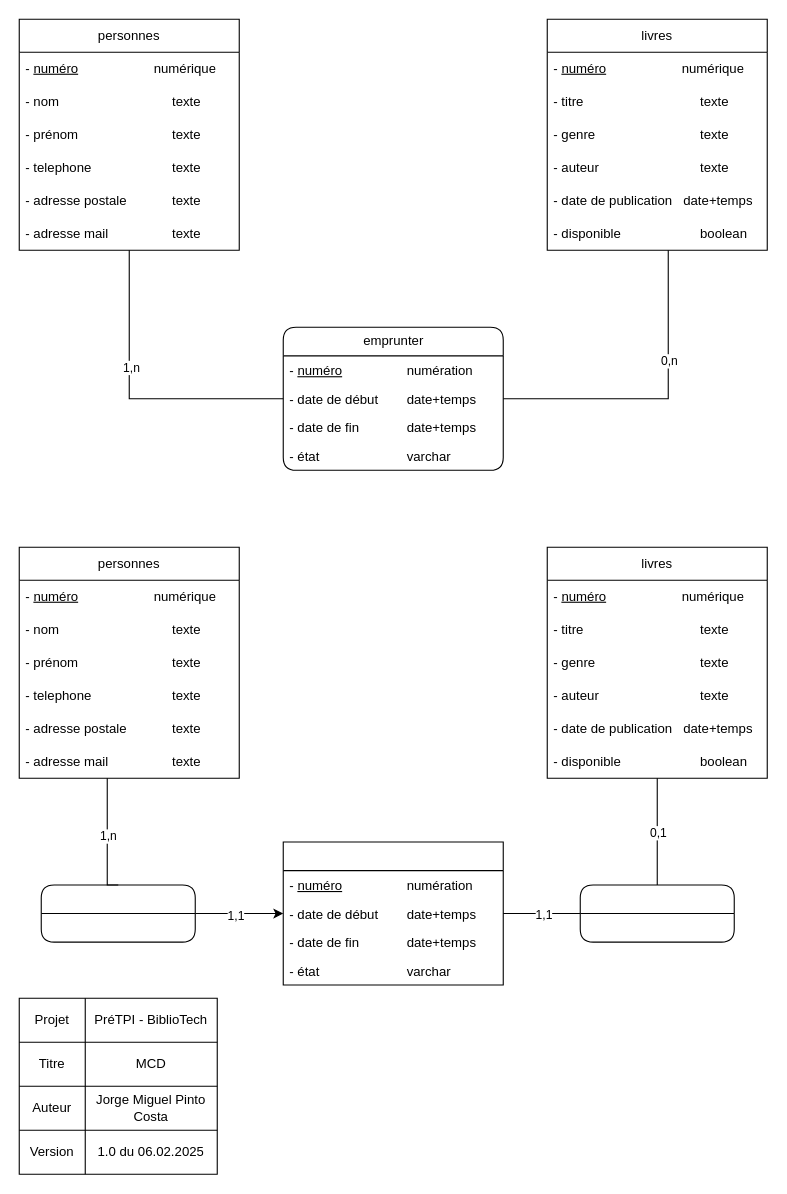
The diagram is 787 pixels wide and 1194 high, and some of its shapes have lost their labels. Here are the shapes that lost their labels. From the top down, the box of each, then its label:
(40, 884, 195, 942): faire
(282, 841, 503, 985): emprunts
(579, 884, 734, 942): enregistrer
